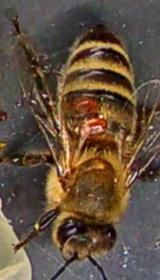varroa_mite: (68, 93, 105, 120), (82, 112, 114, 140)
